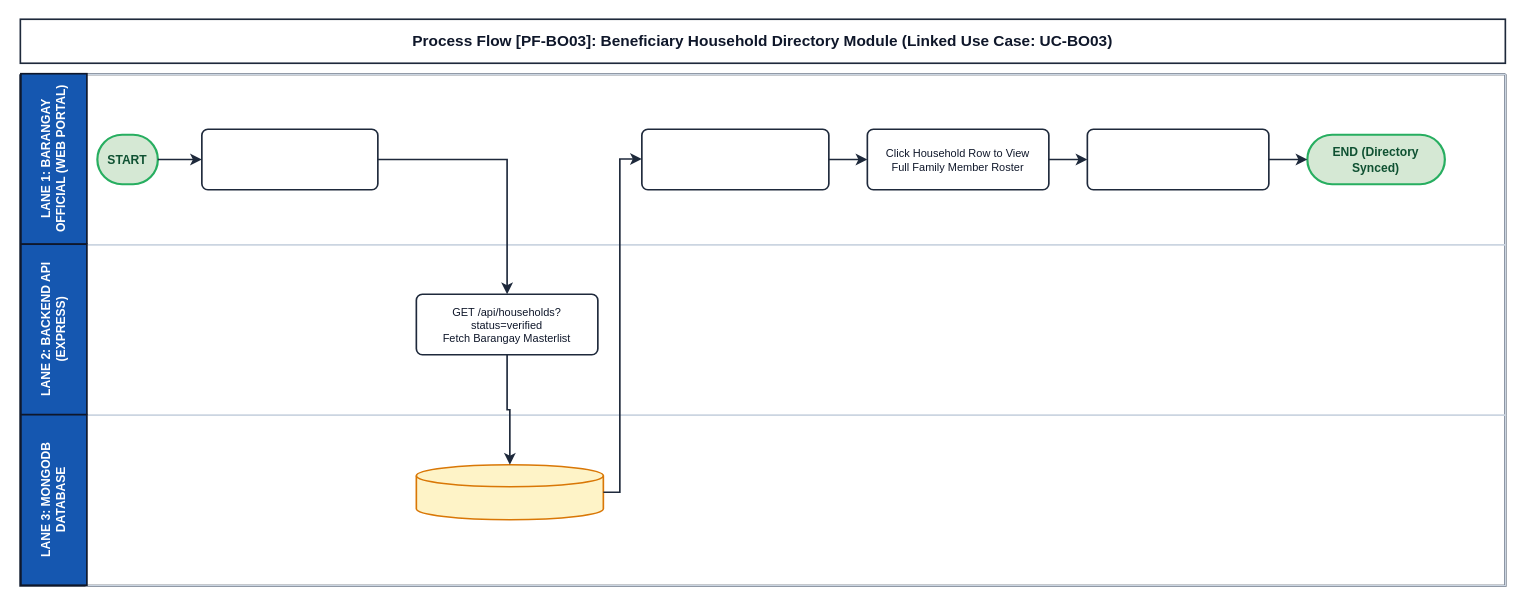
Image size: 1525x606. Some labels were removed from this diagram. The box of each missing label's shape, as (x1, y1, x2, y2) in pixels:
Export Certified Barangay Beneficiary Masterlist (CSV): (1086, 128, 1269, 190)
MongoDB: Query Verified Households & Member Demographic Arrays: (415, 463, 604, 520)
Open Beneficiary Directory; Enter Purok or Name Filter: (201, 128, 378, 190)
Render Searchable Registry Table with QR Pass Status Indicators: (641, 128, 829, 190)
